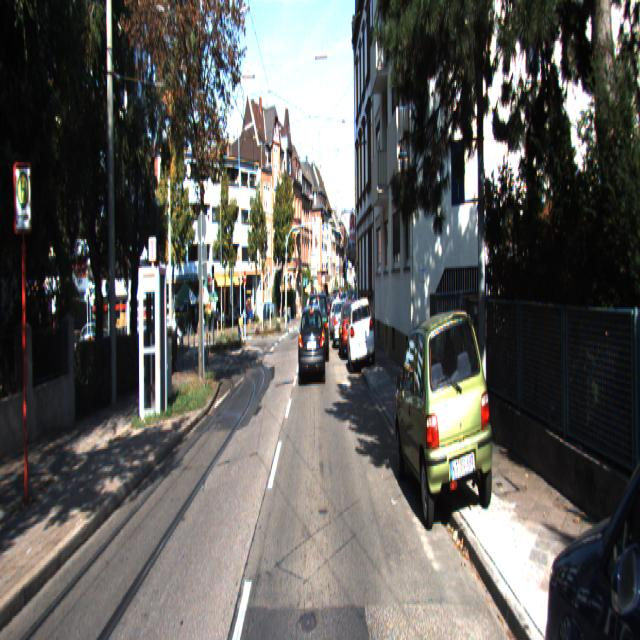Car: (534, 232, 640, 638), (393, 301, 496, 540), (298, 300, 325, 386), (347, 294, 375, 375), (308, 290, 329, 364), (337, 300, 361, 363), (332, 301, 350, 353)
DontCare: (72, 306, 226, 340)
